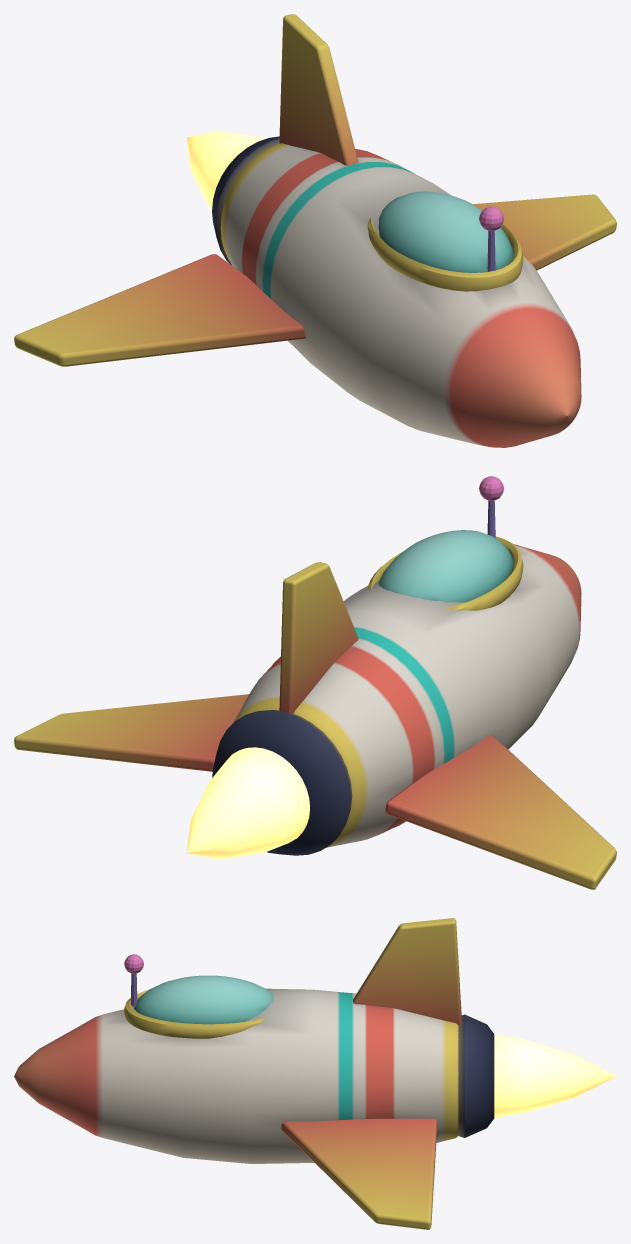
The model's file is cohete.glb.
3 renders of one model, top to bottom at view 1: azimuth 30°, elevation 25°; view 2: azimuth 150°, elevation 25°; view 3: azimuth 270°, elevation 25°, orthographic. The views are drawn at different scales.
Parts seen in each view (by area): view 1: Cuerpo, Ala izq, Ala der, Llama; view 2: Cuerpo, Ala izq, Ala der, Llama; view 3: Cuerpo, Ala der, Llama.
Part boxes in pixels (bbox=[...]): Cuerpo: bbox=[212, 14, 581, 447]; Ala izq: bbox=[14, 254, 305, 366]; Ala der: bbox=[473, 194, 616, 270]; Llama: bbox=[187, 131, 265, 211]; Cuerpo: bbox=[212, 476, 581, 855]; Ala izq: bbox=[385, 734, 616, 889]; Ala der: bbox=[14, 694, 248, 771]; Llama: bbox=[187, 747, 309, 859]; Cuerpo: bbox=[14, 918, 494, 1163]; Ala der: bbox=[281, 1118, 437, 1229]; Llama: bbox=[494, 1034, 616, 1117].
Bounding box in the file's own units: 4.3 × 2.11 × 4.87.
